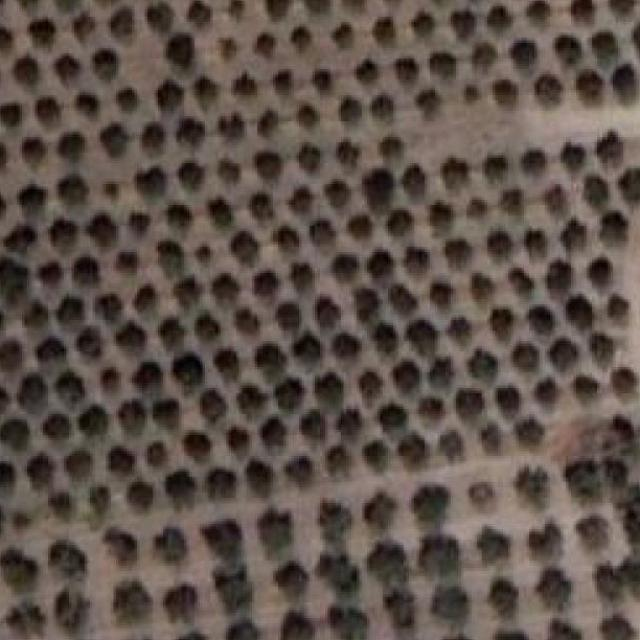Tree: (213, 564, 252, 615), (318, 550, 361, 594), (419, 536, 462, 578), (257, 508, 293, 558), (367, 542, 407, 586), (56, 586, 92, 634), (0, 548, 38, 593), (412, 485, 450, 530), (597, 564, 640, 602), (114, 582, 152, 624), (205, 520, 242, 562), (538, 569, 573, 612), (433, 587, 471, 624), (6, 602, 47, 636), (517, 466, 549, 509), (163, 584, 198, 623), (529, 522, 564, 561), (365, 168, 396, 212), (51, 542, 88, 578), (276, 564, 311, 602), (0, 260, 28, 306), (330, 605, 366, 640), (576, 516, 611, 552), (255, 344, 287, 383), (564, 464, 599, 499), (228, 231, 264, 265), (477, 528, 511, 564), (166, 472, 198, 510), (365, 493, 397, 531), (174, 355, 205, 394), (489, 579, 519, 619), (156, 526, 188, 563), (407, 320, 438, 358), (398, 432, 430, 468), (386, 590, 416, 628), (323, 502, 350, 544), (468, 348, 498, 385), (19, 376, 48, 414), (116, 323, 148, 357), (100, 124, 131, 159), (27, 453, 57, 489), (315, 372, 344, 409), (200, 388, 229, 425), (592, 32, 621, 69), (88, 213, 119, 247), (56, 372, 87, 406), (58, 174, 90, 206), (534, 74, 564, 108), (576, 72, 604, 108), (239, 386, 270, 418), (55, 297, 85, 330), (447, 239, 477, 272), (550, 339, 580, 372), (275, 377, 304, 411), (613, 64, 638, 103), (108, 529, 134, 566), (135, 167, 166, 198), (79, 406, 110, 437), (173, 278, 203, 310), (393, 362, 423, 394), (281, 610, 313, 640), (166, 36, 194, 70), (247, 461, 272, 499), (599, 214, 629, 245), (19, 186, 48, 218), (294, 332, 323, 364), (4, 226, 37, 254), (126, 480, 154, 513), (597, 132, 624, 166), (488, 229, 514, 264), (444, 158, 471, 191), (566, 297, 593, 330), (600, 616, 637, 640), (356, 289, 382, 323), (132, 362, 162, 391), (625, 487, 640, 545), (58, 132, 86, 163), (286, 456, 314, 487), (208, 468, 235, 500), (391, 283, 418, 315), (142, 124, 168, 157), (52, 219, 78, 252), (158, 318, 184, 351), (194, 77, 220, 110), (120, 402, 146, 435), (470, 271, 496, 304), (584, 177, 610, 210), (560, 219, 586, 252), (548, 260, 574, 293), (158, 242, 183, 276), (0, 422, 29, 451), (402, 166, 426, 201), (517, 420, 547, 448), (367, 249, 394, 280), (377, 404, 408, 431), (556, 34, 582, 66), (372, 322, 398, 354), (440, 430, 466, 462), (365, 440, 390, 473), (590, 334, 615, 367), (430, 203, 454, 237), (156, 83, 183, 113), (456, 391, 483, 421), (508, 268, 534, 299), (95, 50, 120, 82), (328, 445, 352, 478), (179, 161, 206, 190), (67, 451, 94, 480), (74, 257, 100, 287), (260, 417, 286, 447), (560, 142, 586, 172), (574, 375, 600, 405), (208, 197, 233, 228), (90, 485, 112, 520), (618, 168, 640, 203), (35, 339, 67, 363), (77, 327, 101, 359), (545, 186, 569, 218), (213, 273, 240, 301), (184, 433, 210, 462), (302, 412, 328, 441), (292, 262, 317, 292), (360, 370, 385, 400), (318, 296, 342, 327), (216, 350, 240, 381), (418, 90, 442, 121), (43, 414, 70, 441), (96, 294, 122, 322), (255, 153, 281, 181), (372, 17, 397, 46), (339, 409, 364, 438), (111, 9, 135, 39), (370, 95, 394, 125), (336, 140, 360, 170), (492, 310, 514, 342), (310, 220, 336, 247), (469, 482, 496, 508), (451, 12, 476, 40), (51, 492, 76, 520), (273, 226, 298, 254), (472, 43, 496, 72), (407, 247, 431, 276), (498, 388, 522, 417), (548, 620, 582, 640), (56, 57, 82, 83), (179, 118, 205, 144), (168, 205, 194, 231), (380, 137, 406, 163), (109, 449, 135, 475), (388, 211, 414, 237), (514, 346, 540, 372), (534, 378, 560, 404), (420, 397, 446, 423), (613, 371, 639, 397), (156, 404, 181, 431), (150, 6, 174, 34), (36, 98, 60, 126), (22, 137, 46, 165), (135, 286, 159, 314), (250, 192, 274, 220), (198, 313, 222, 341), (326, 182, 350, 210), (430, 360, 454, 388), (590, 258, 614, 286), (0, 341, 23, 370), (524, 229, 546, 259), (480, 424, 501, 455), (25, 301, 50, 327), (255, 270, 280, 296), (522, 150, 547, 176), (334, 255, 358, 282), (299, 146, 323, 173), (226, 621, 260, 640), (527, 0, 552, 25), (288, 188, 312, 214), (430, 54, 456, 78), (488, 6, 512, 32), (512, 40, 536, 66), (448, 318, 472, 344), (190, 1, 213, 28), (14, 58, 36, 86), (610, 418, 632, 446), (608, 294, 630, 321), (38, 262, 62, 286), (412, 12, 436, 36), (74, 15, 96, 41), (32, 22, 54, 48), (257, 111, 278, 138), (237, 310, 260, 334), (334, 336, 359, 358), (292, 27, 314, 52), (341, 98, 363, 123), (356, 62, 381, 84), (496, 82, 518, 107), (78, 92, 99, 118), (255, 32, 276, 58), (485, 156, 506, 182), (116, 88, 138, 112), (234, 74, 256, 98), (220, 116, 242, 140), (229, 428, 251, 452), (350, 216, 374, 238), (334, 24, 354, 50), (297, 105, 319, 128), (501, 192, 522, 216), (531, 310, 552, 334), (148, 443, 168, 468), (102, 367, 121, 393), (116, 252, 138, 274), (398, 58, 418, 82), (281, 304, 298, 332), (1, 106, 22, 128), (220, 161, 240, 184), (266, 0, 290, 19), (573, 0, 592, 24), (130, 214, 150, 236), (312, 72, 332, 94), (433, 284, 453, 306), (273, 72, 292, 95), (467, 200, 488, 218), (0, 464, 15, 488), (610, 0, 634, 15), (304, 0, 328, 14), (221, 40, 236, 60), (0, 27, 12, 51), (464, 84, 480, 102), (229, 0, 245, 18), (494, 633, 534, 640), (195, 245, 211, 262), (633, 21, 640, 56), (106, 185, 119, 200), (0, 385, 6, 411), (0, 503, 4, 538), (0, 148, 5, 170), (0, 192, 4, 218)
